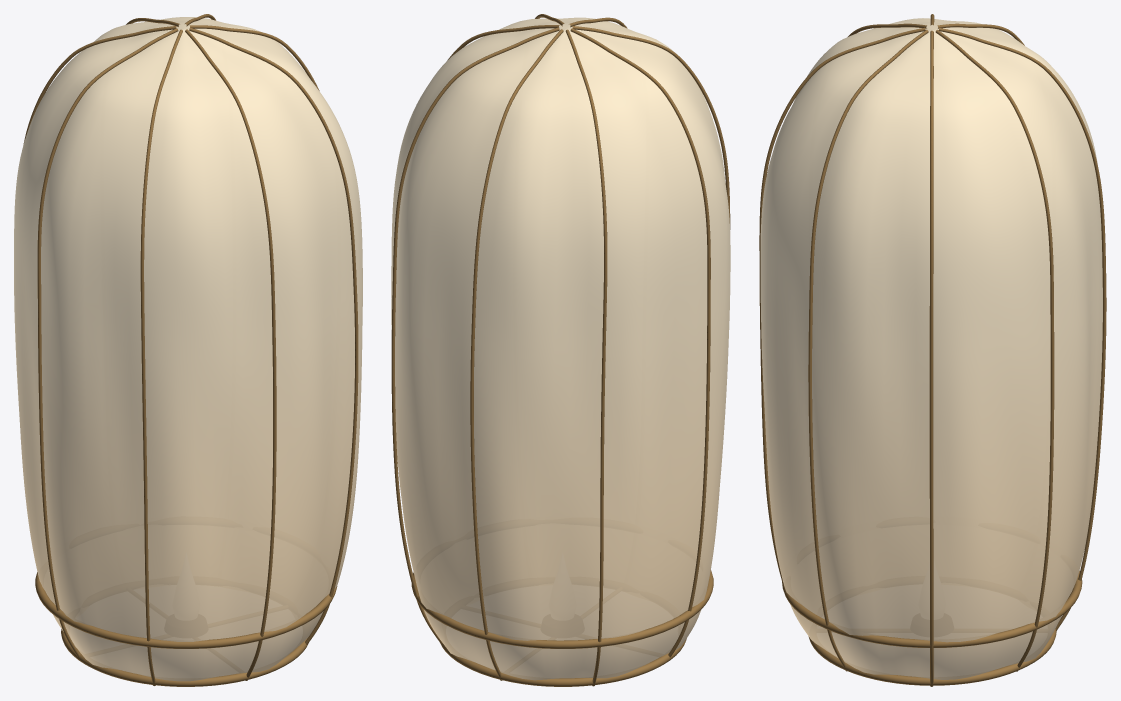
The model's file is paper-lantern.glb.
3 renders of one model, left to right at view 1: azimuth 30°, elevation 25°; view 2: azimuth 150°, elevation 25°; view 3: azimuth 270°, elevation 25°, orthographic.
Visible parts, largest first — view 1: Continuous folded translucent paper shell, Eight fine bamboo ribs, open double rim and crossed brace; view 2: Continuous folded translucent paper shell, Eight fine bamboo ribs, open double rim and crossed brace; view 3: Continuous folded translucent paper shell, Eight fine bamboo ribs, open double rim and crossed brace.
Boxes of the visible parts, box(x1,y1,x2,y2) form: Continuous folded translucent paper shell: box(14, 17, 362, 681); Eight fine bamboo ribs, open double rim and crossed brace: box(23, 14, 358, 686); Continuous folded translucent paper shell: box(391, 17, 730, 680); Eight fine bamboo ribs, open double rim and crossed brace: box(391, 14, 730, 686); Continuous folded translucent paper shell: box(760, 18, 1102, 679); Eight fine bamboo ribs, open double rim and crossed brace: box(759, 14, 1106, 686).
Bounding box in the file's own units: 0.9731 × 1.87 × 0.9728.
